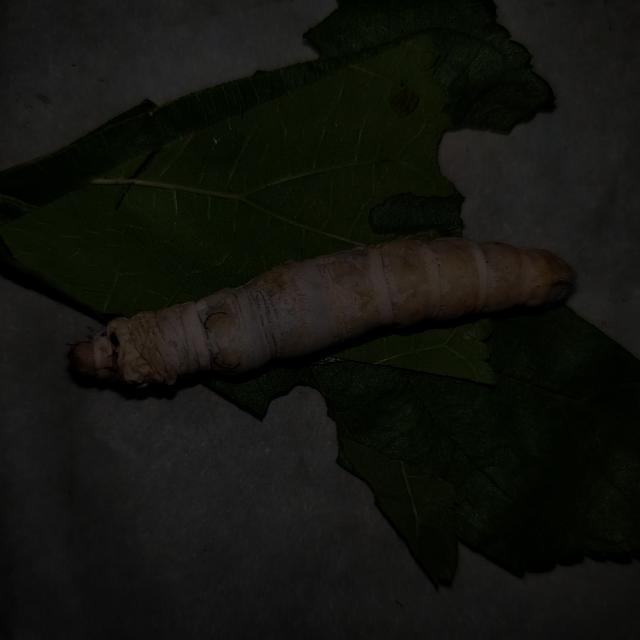Grasserie: (64, 216, 584, 404)
